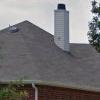Chimney: (50, 2, 76, 57)
